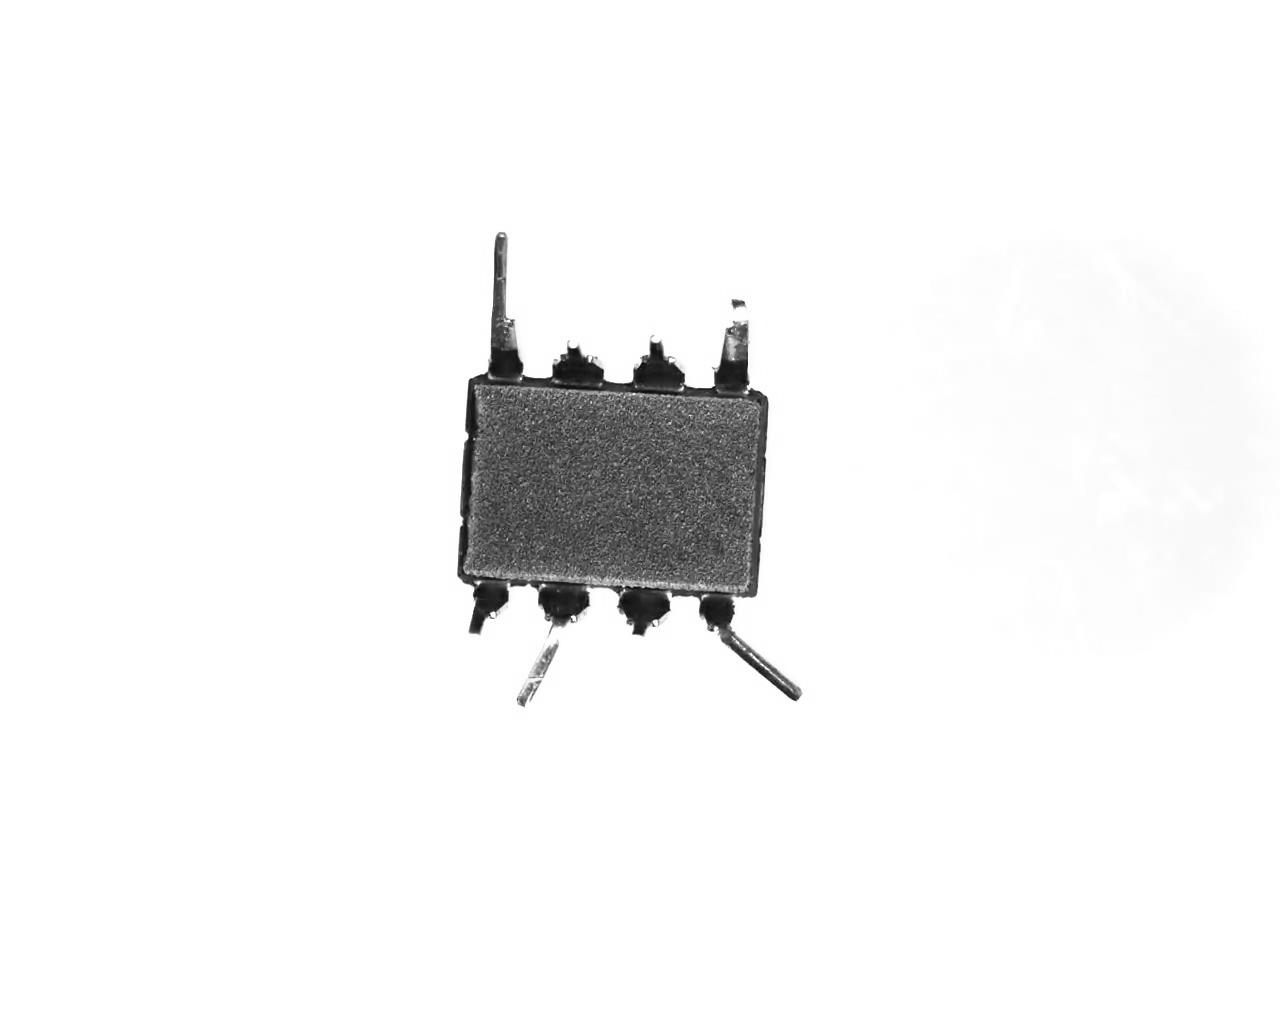Leg: (689, 592, 810, 703), (517, 564, 594, 709), (462, 234, 533, 385), (702, 284, 758, 413)
brokenLeg: (605, 579, 673, 645), (626, 330, 691, 397), (538, 340, 606, 400), (468, 577, 516, 637)
